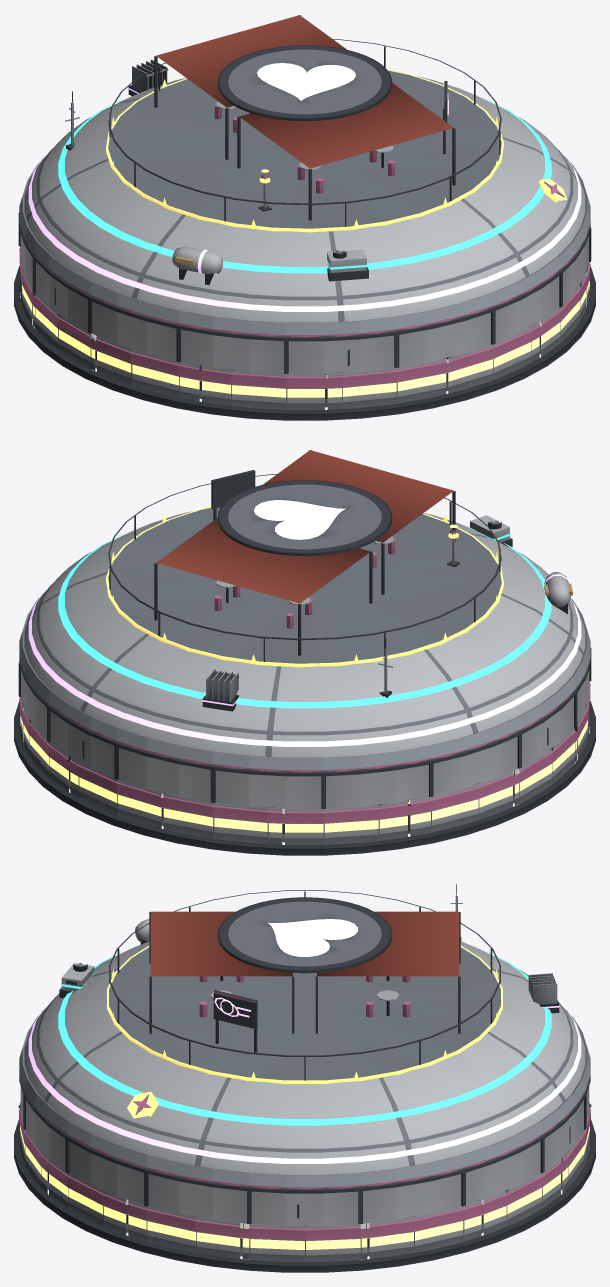
The model's file is cantina_l_far.glb.
The picture shows the model from 3 angles, top to bottom: view 1: azimuth 30°, elevation 25°; view 2: azimuth 150°, elevation 25°; view 3: azimuth 270°, elevation 25°; orthographic projection.
Visible parts, largest first — view 1: Roof, Base, L2, L4, L3, L5; view 2: Roof, Base, L2, L4, L3, L5; view 3: Roof, Base, L2, L4, L3, L5.
Part boxes in pixels (x1,y1,x2,y2): Roof: [18, 15, 591, 373]; Base: [14, 246, 595, 420]; L2: [19, 91, 590, 334]; L4: [28, 59, 581, 311]; L3: [58, 90, 551, 281]; L5: [106, 69, 566, 232]; Roof: [18, 450, 591, 808]; Base: [14, 681, 595, 855]; L2: [19, 590, 590, 769]; L4: [28, 572, 581, 746]; L3: [58, 515, 551, 708]; L5: [106, 505, 503, 667]; Roof: [19, 890, 590, 1225]; Base: [14, 1102, 595, 1272]; L2: [19, 884, 590, 1187]; L4: [28, 919, 581, 1163]; L3: [58, 948, 551, 1125]; L5: [107, 945, 502, 1118].
Size of the model in its own units: 18.96 by 7.76 by 18.96.
